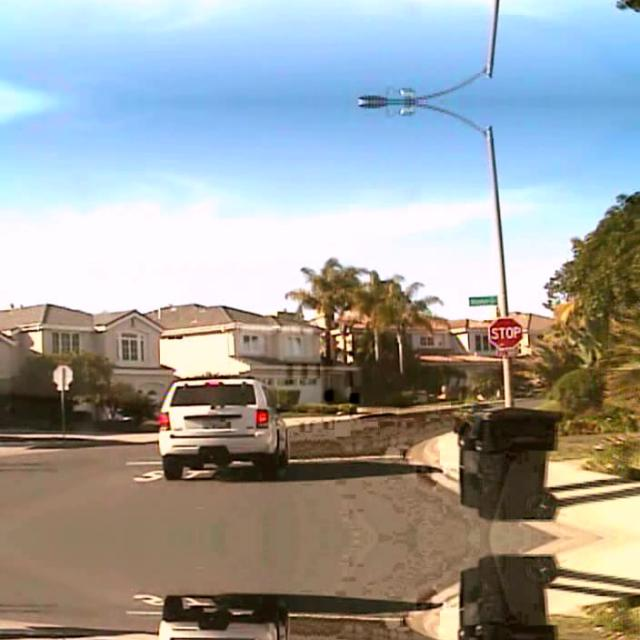stop: (489, 316, 523, 348)
